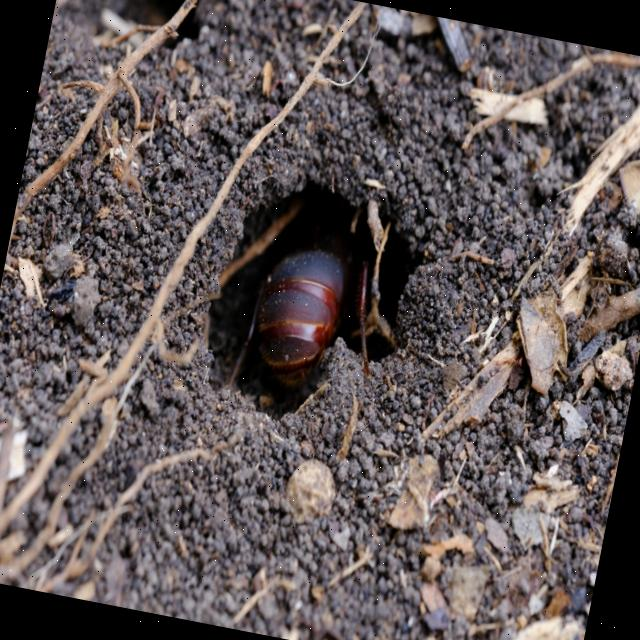Alive-Female-Dealate: (217, 218, 401, 437)
